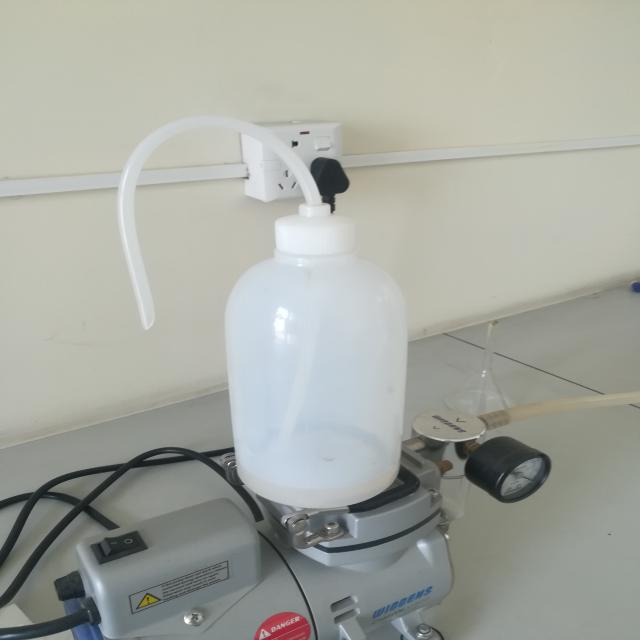Wash_Bottle: (76, 84, 461, 533)
